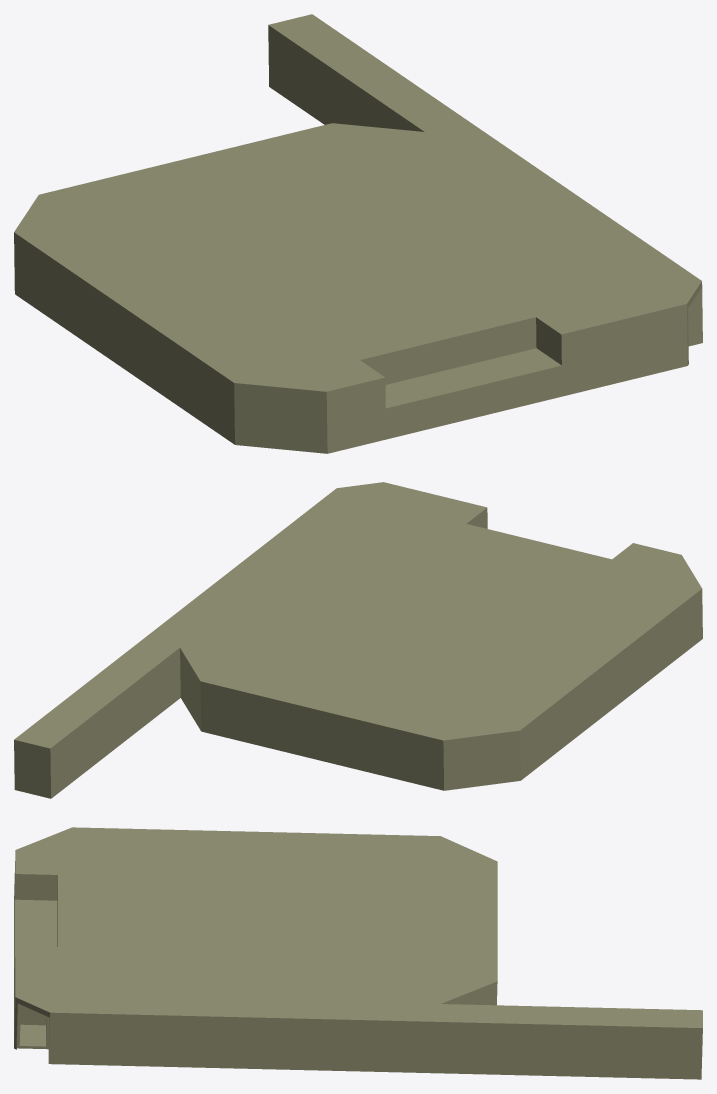
3 views of the same model, one above another, from view 1: azimuth 30°, elevation 25°; view 2: azimuth 150°, elevation 25°; view 3: azimuth 270°, elevation 25° (orthographic). The views are drawn at different scales.
Parts seen in each view (by area): view 1: node; view 2: node; view 3: node.
Part boxes in pixels (bbox=[...]): node: bbox=[14, 14, 702, 453]; node: bbox=[14, 482, 702, 798]; node: bbox=[14, 827, 702, 1079].
Size of the model in its own units: 3.1 by 4.86 by 0.5268.
